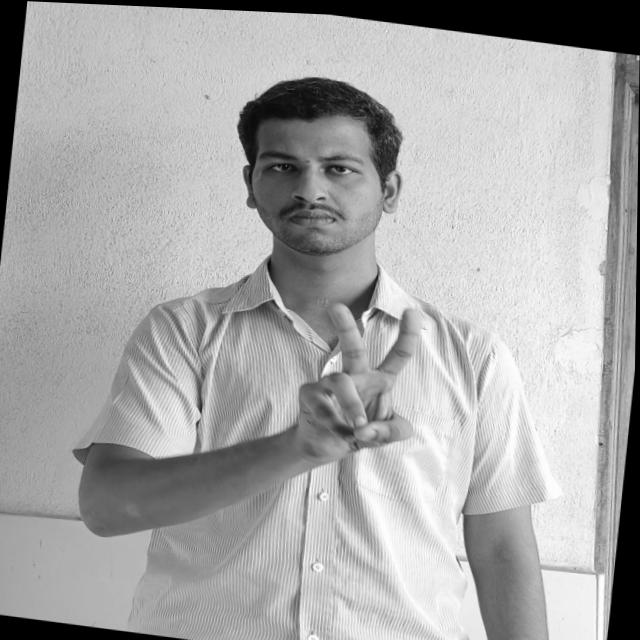Victory: (289, 292, 435, 463)
